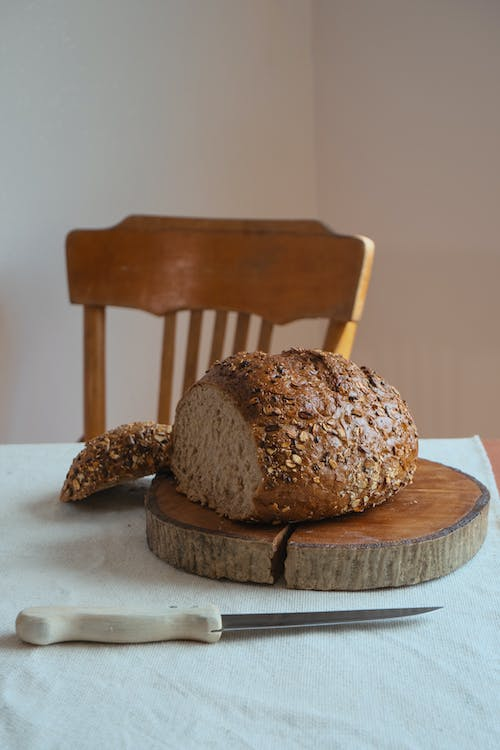knife: (14, 601, 449, 648)
